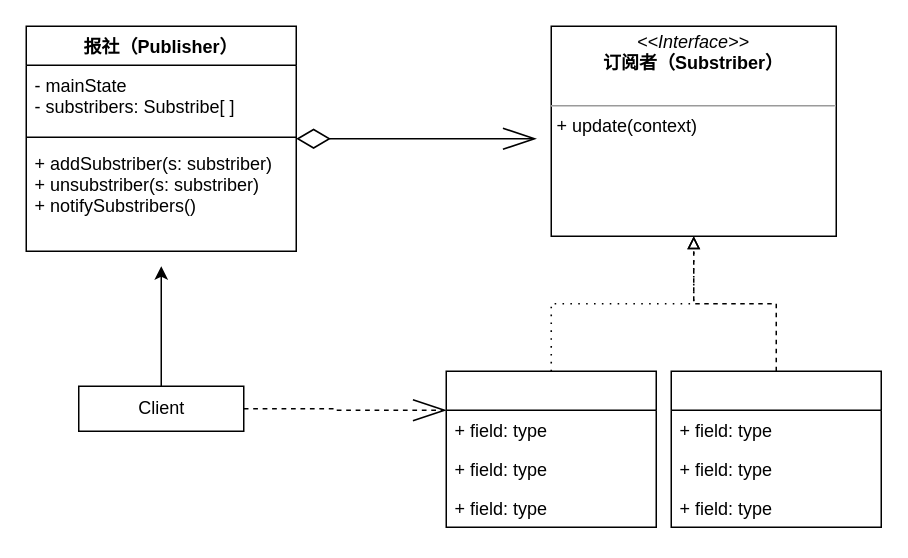
The diagram is 908 pixels wide and 558 high, and some of its shapes have lost their labels. Here are the shapes that lost their labels. From the top down, the box of each, then its label:
(445, 370, 656, 527): 家庭
(670, 370, 881, 527): 公司
